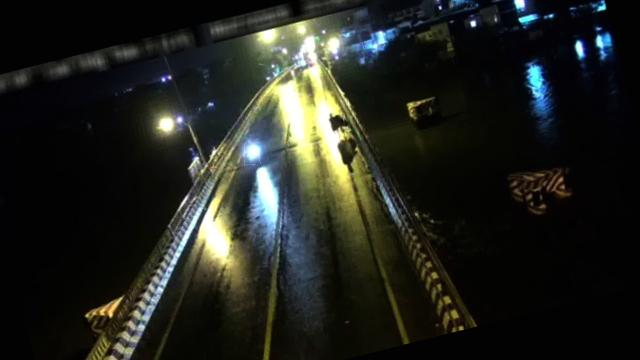Bike: (242, 140, 264, 166)
Truck: (327, 109, 348, 138)
